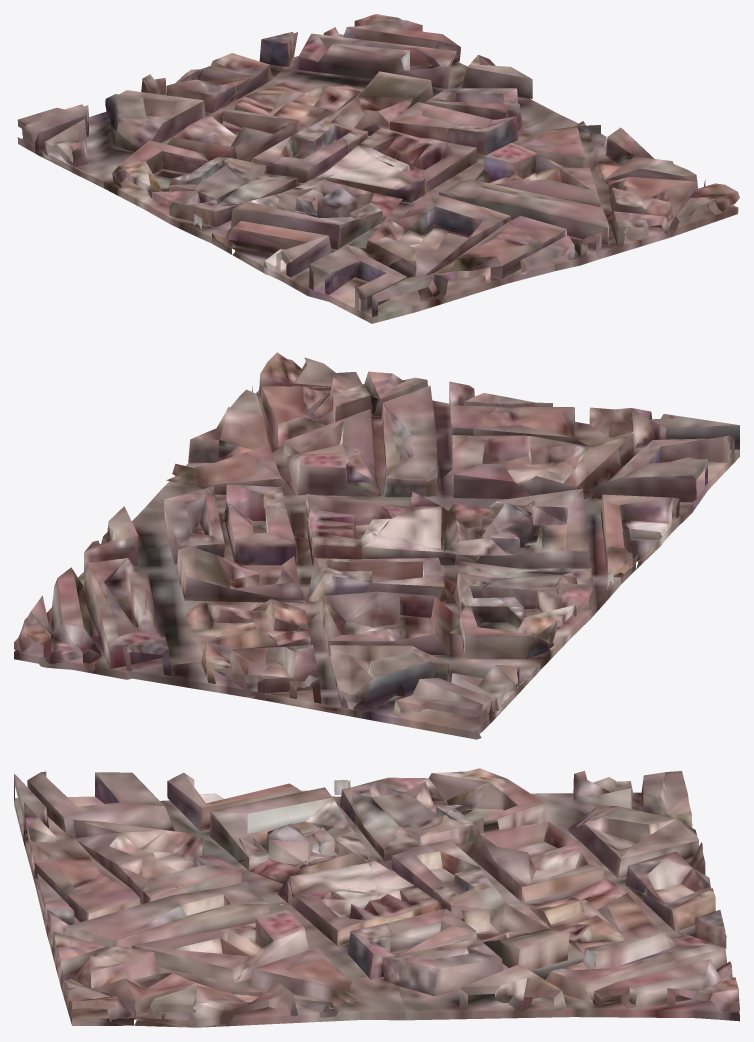
The picture shows the model from 3 angles, top to bottom: view 1: azimuth 30°, elevation 25°; view 2: azimuth 150°, elevation 25°; view 3: azimuth 270°, elevation 25°; orthographic projection. The views are drawn at different scales.
Parts seen in each view (by area): view 1: Mesh_0; view 2: Mesh_0; view 3: Mesh_0.
Part boxes in pixels (box(x1,y1,x2,y2)): Mesh_0: box(17, 14, 739, 323); Mesh_0: box(14, 352, 739, 739); Mesh_0: box(14, 768, 739, 1027).
Bounding box in the file's own units: 540 × 72.29 × 659.
Materials: 2 (2 with a texture image).
